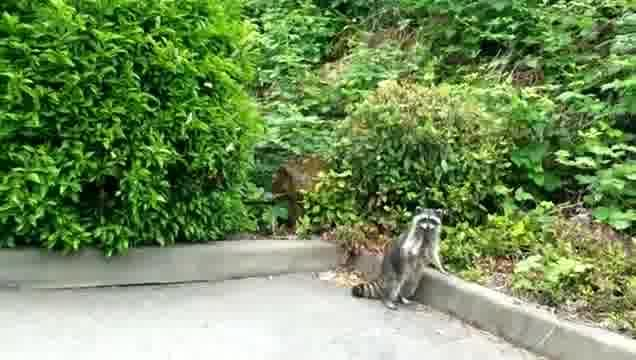raccoon: (352, 207, 450, 316)
